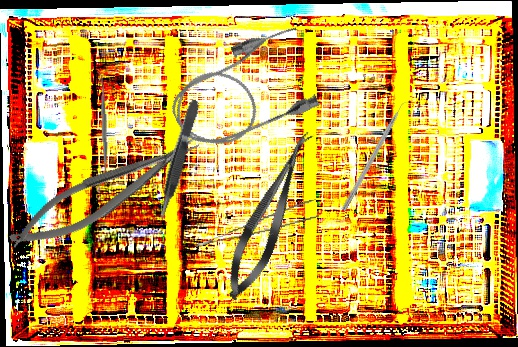Cannula: (158, 19, 329, 162)
Chopper: (341, 95, 415, 215)
Micro Scissor: (215, 124, 324, 306)
Needle Holder: (1, 127, 210, 260)
Spatula Surgical: (96, 70, 112, 186)
Tissue Forceps: (153, 98, 204, 223), (191, 199, 321, 247)
